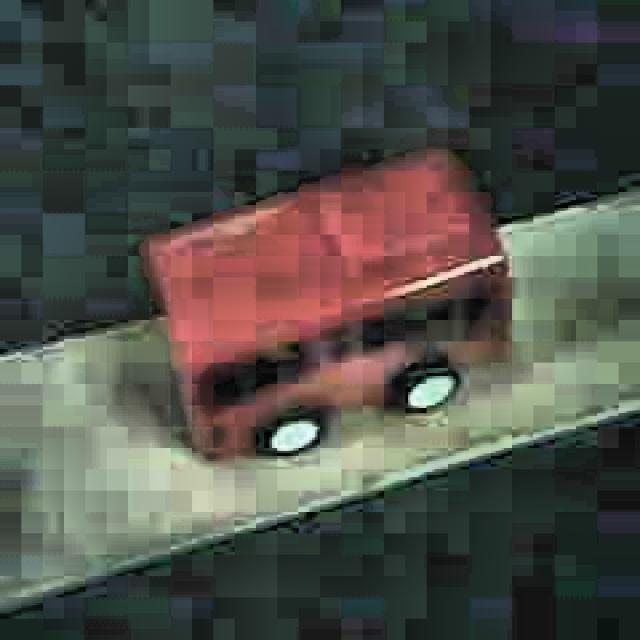bus: (149, 152, 512, 460)
